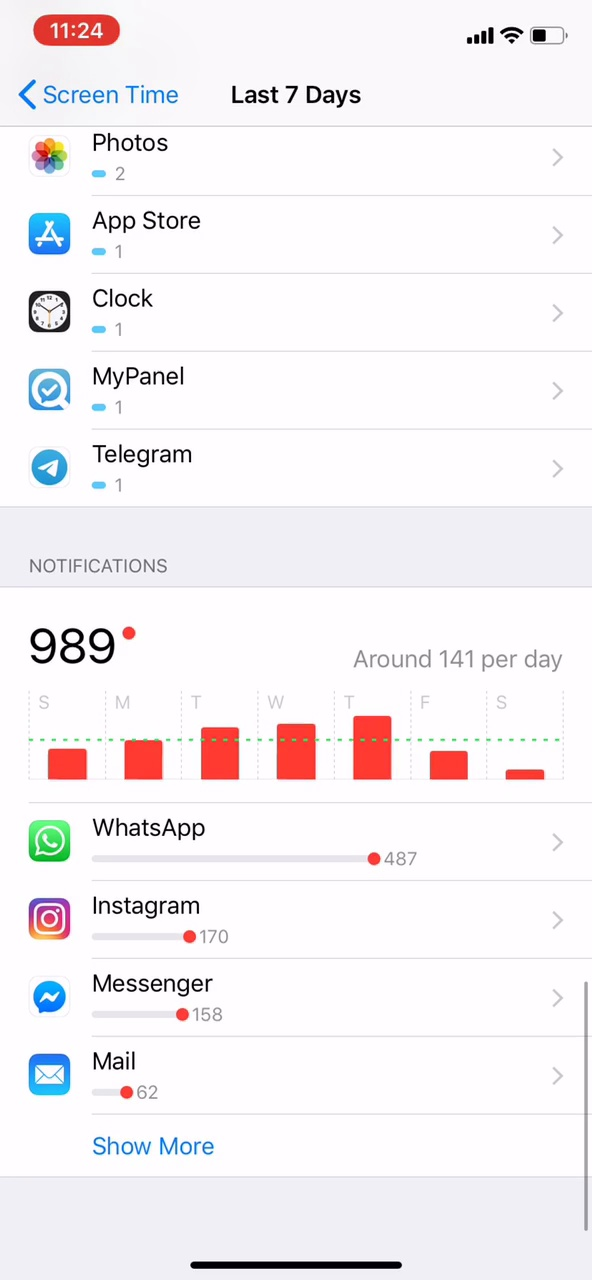not_app: (17, 805, 443, 878), (17, 964, 270, 1030), (20, 889, 262, 953), (20, 1038, 211, 1107)
not_over: (9, 535, 220, 674)
pick_app: (23, 274, 204, 349), (22, 433, 226, 497), (23, 203, 226, 266), (26, 127, 206, 192), (20, 358, 193, 421)
week: (217, 69, 372, 114)
